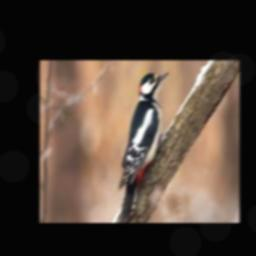Woodpecker: (119, 71, 169, 223)
